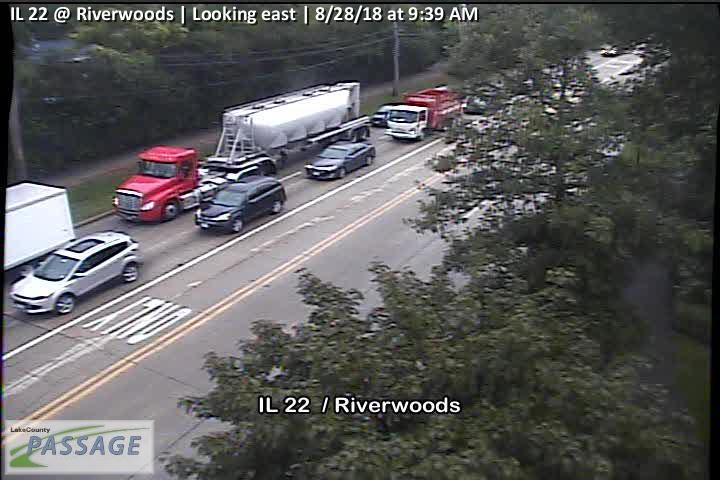SUV: (10, 230, 145, 315), (194, 174, 287, 232)
Sedan: (305, 140, 376, 179)
Truck: (112, 81, 371, 223), (383, 87, 464, 141)
